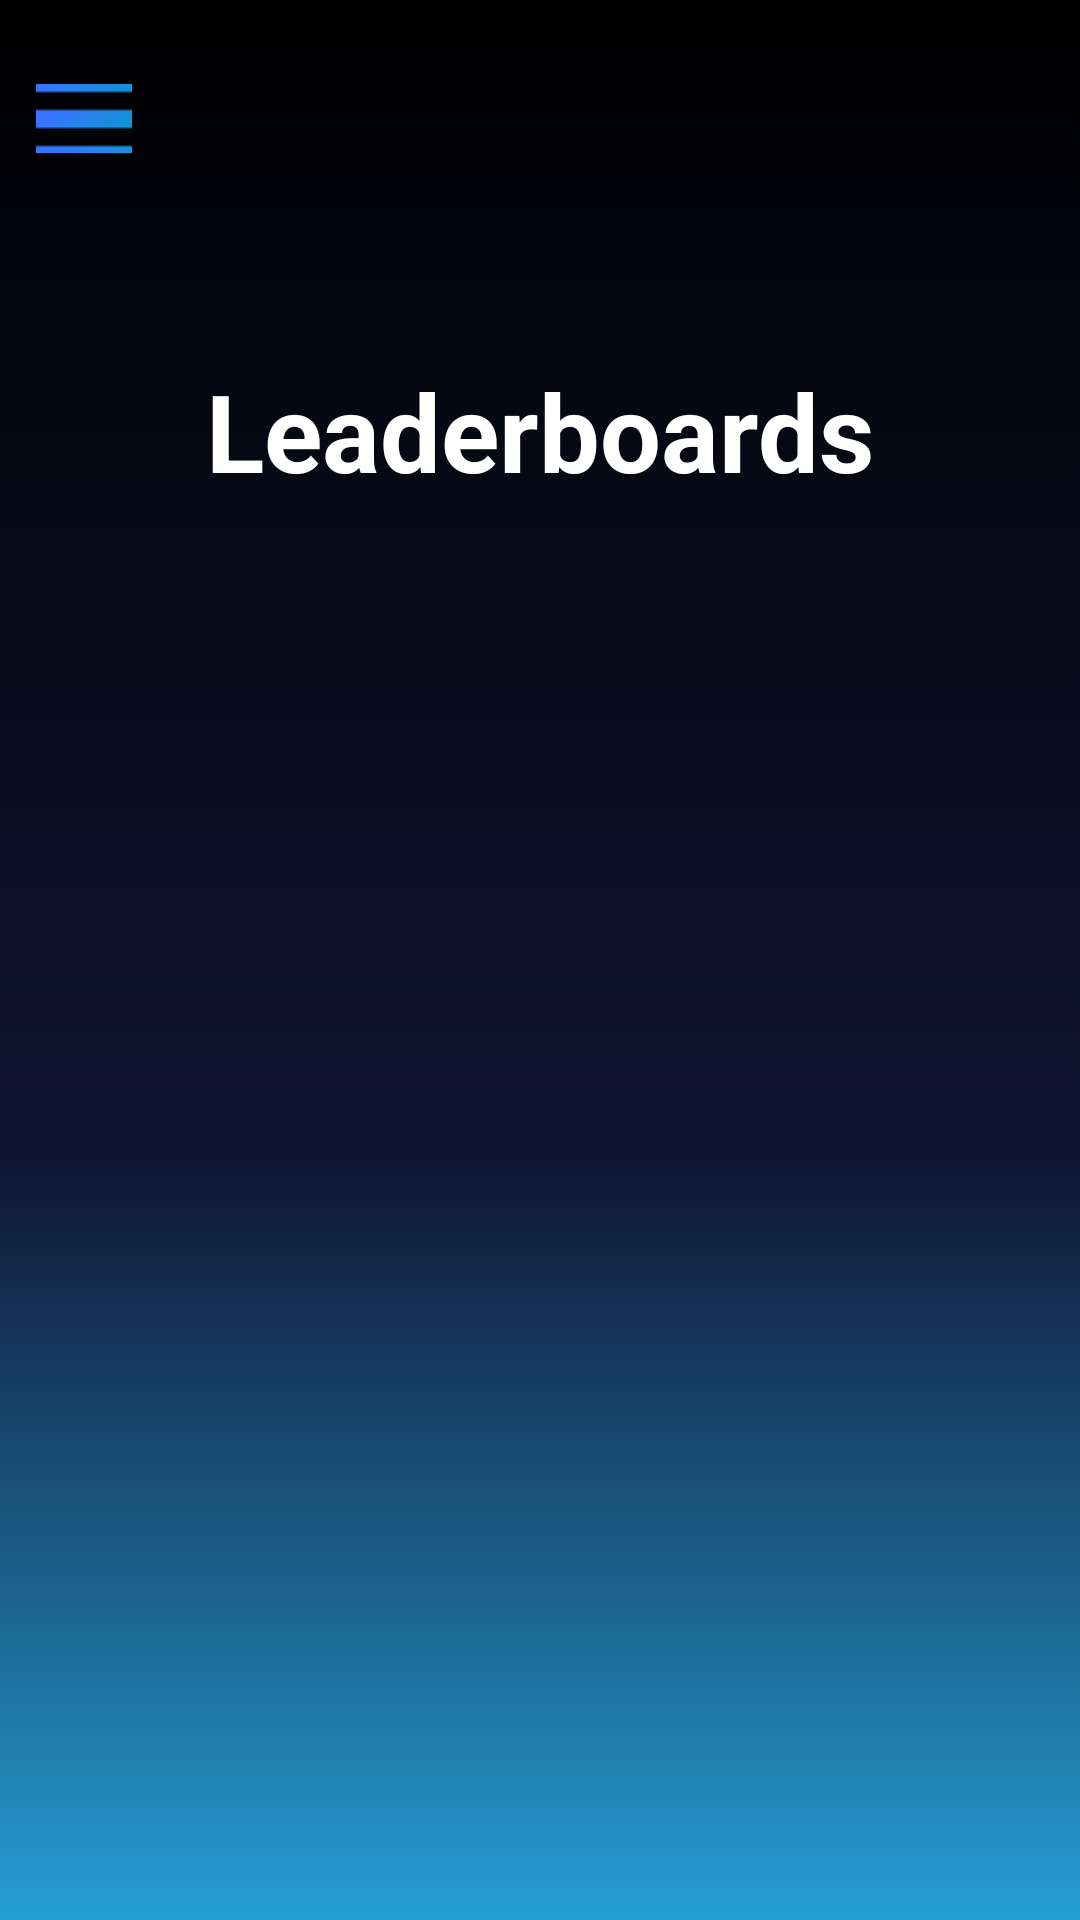

Point at icon controls on the screen. Image size 1080px x 1920px, points as (x=x, y=y).
menu: (x=84, y=118)
